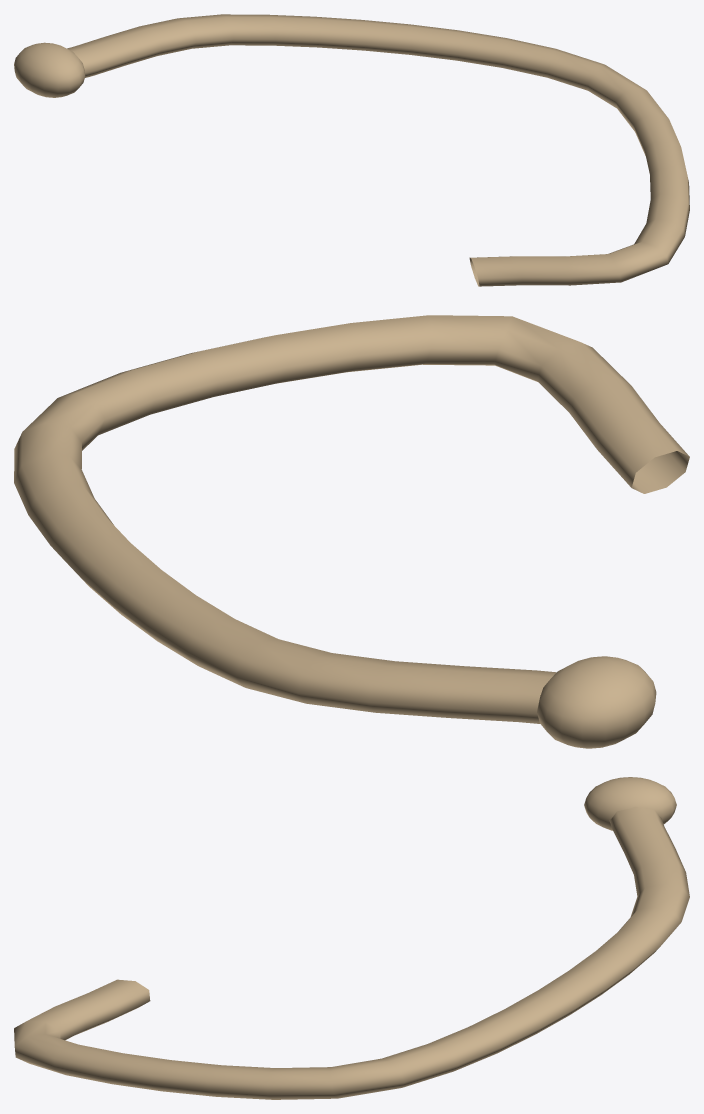
File: left_rib_11.glb
The picture shows the model from 3 angles, top to bottom: view 1: azimuth 30°, elevation 25°; view 2: azimuth 150°, elevation 25°; view 3: azimuth 270°, elevation 25°; orthographic projection. The views are drawn at different scales.
Parts seen in each view (by area): view 1: left_rib_11:costal-body, left_rib_11:head; view 2: left_rib_11:costal-body, left_rib_11:head; view 3: left_rib_11:costal-body, left_rib_11:head.
Part boxes in pixels (bbox=[...]): left_rib_11:costal-body: bbox=[67, 14, 689, 286]; left_rib_11:head: bbox=[14, 42, 85, 97]; left_rib_11:costal-body: bbox=[14, 315, 689, 723]; left_rib_11:head: bbox=[537, 656, 656, 748]; left_rib_11:costal-body: bbox=[14, 806, 689, 1099]; left_rib_11:head: bbox=[584, 777, 676, 830].
Size of the model in its own units: 0.7872 by 0.1728 by 0.864.
